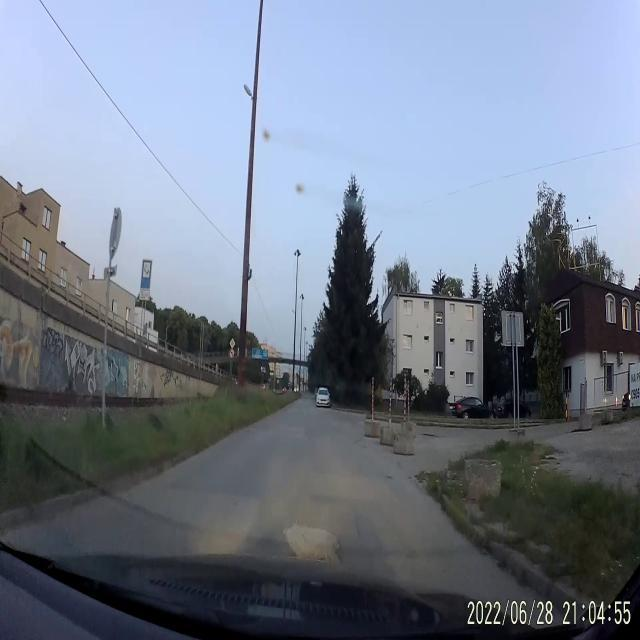Pothole: (280, 520, 340, 562), (422, 431, 441, 441), (384, 472, 394, 484)
